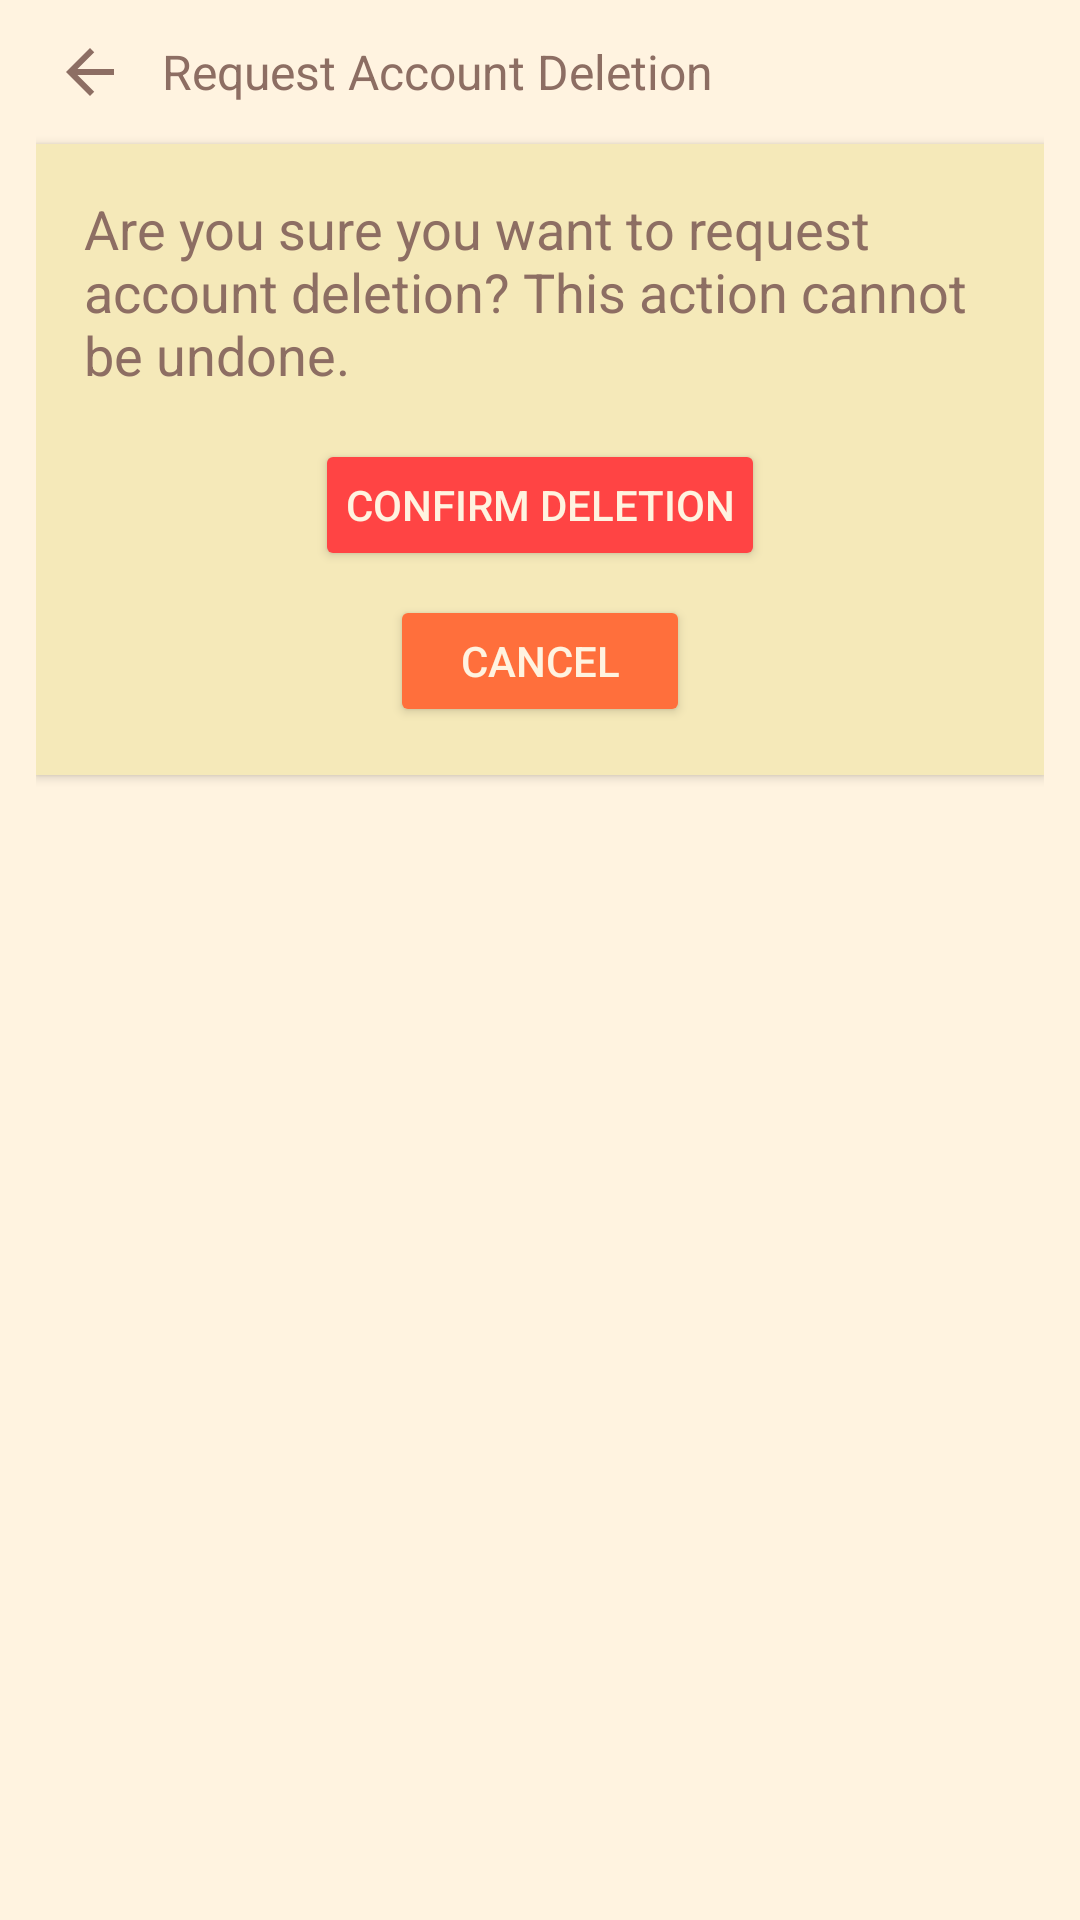

Icons on this 1080px x 1920px Android screen, each with its box as (x1, y1, x2, y2):
Back to Home: (66, 48, 114, 96)
